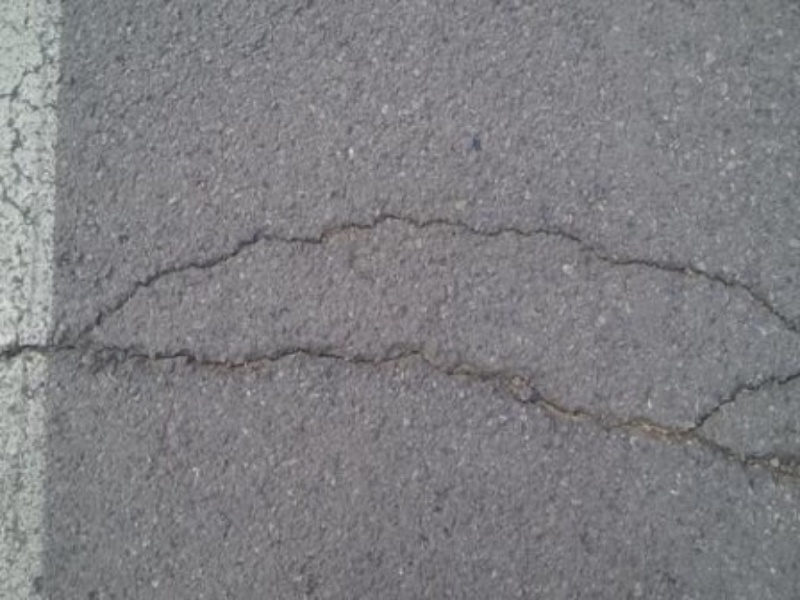crack: (8, 315, 800, 484), (2, 212, 796, 363)
